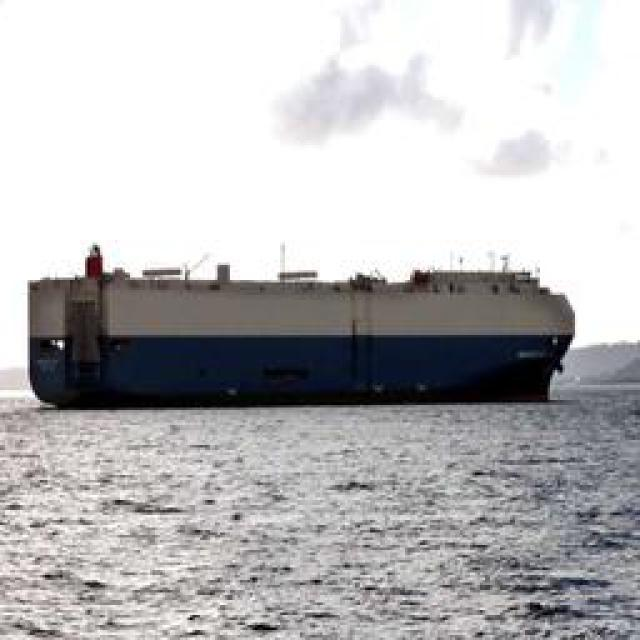Ship: (30, 251, 578, 411)
